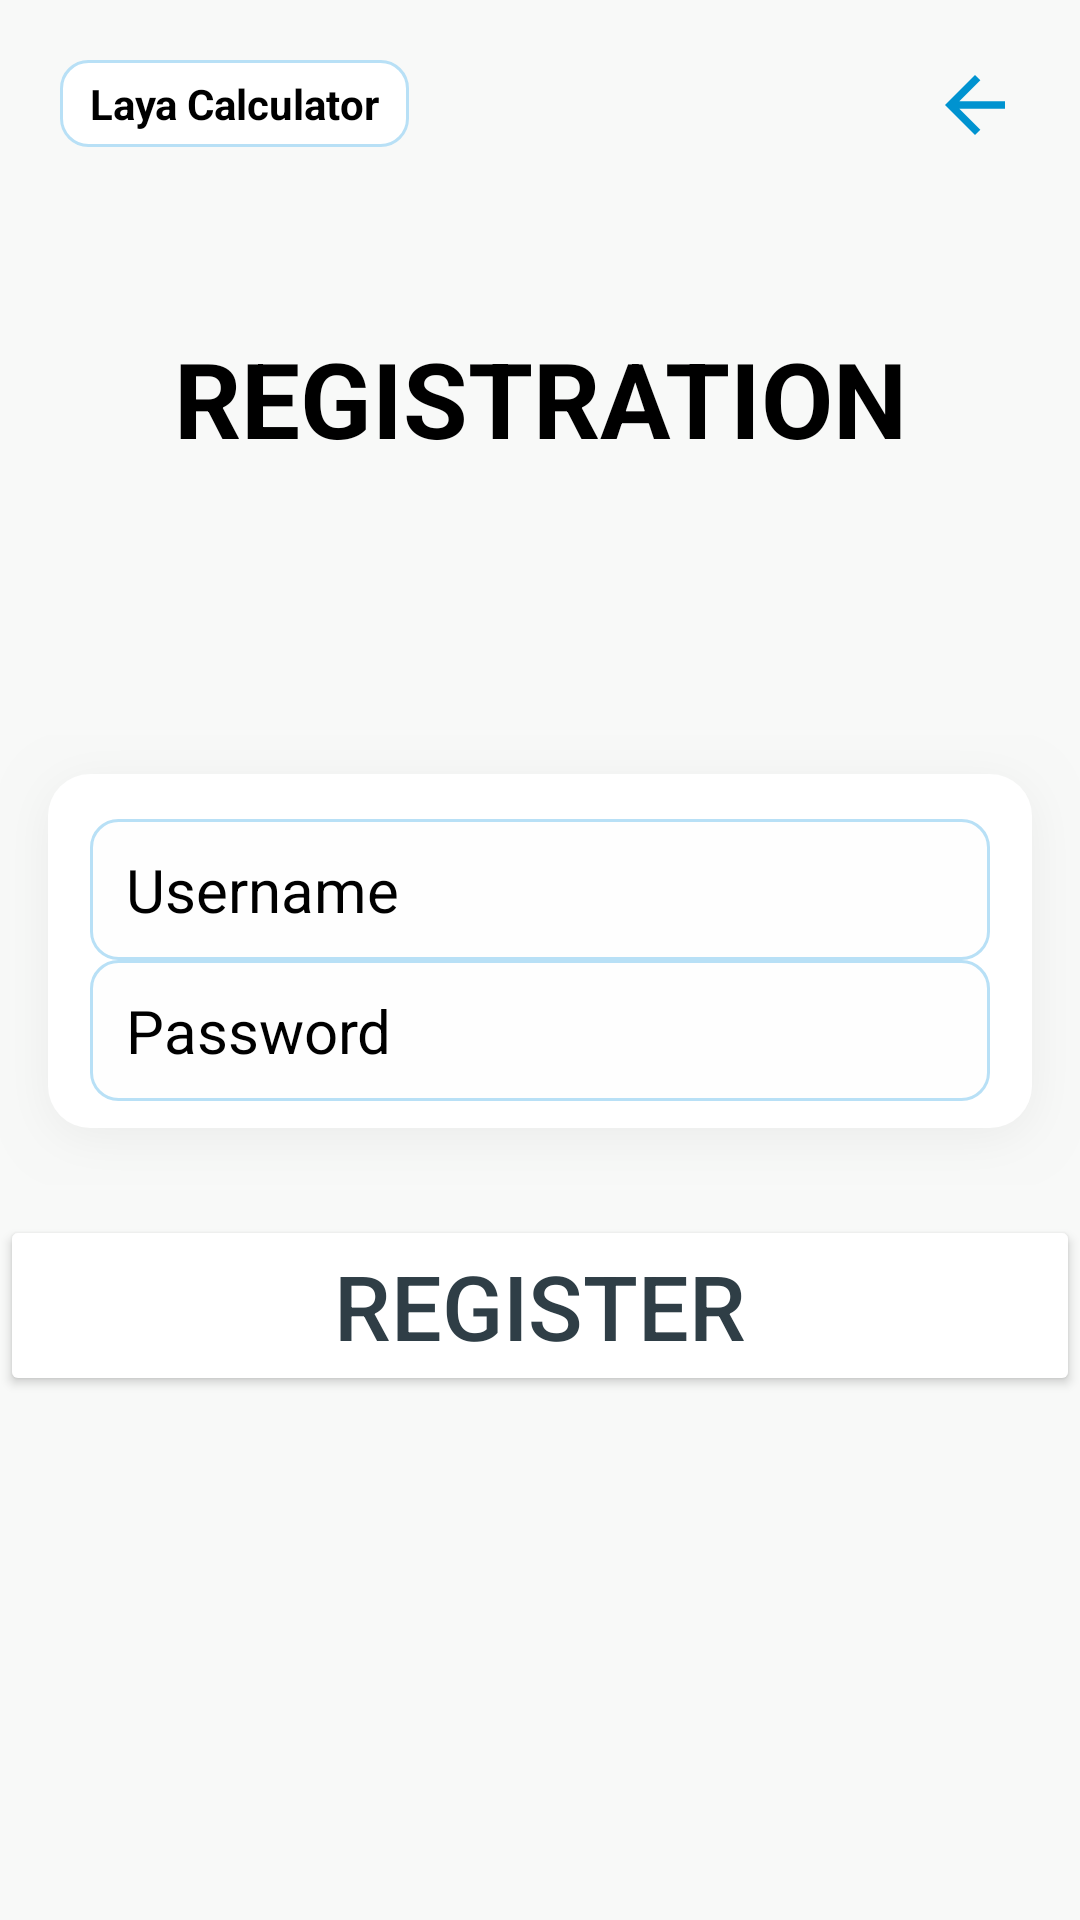

Named icons in this screenshot (1080×1920) and their centers, (x=x, y=y):
arrow back: (x=975, y=105)
